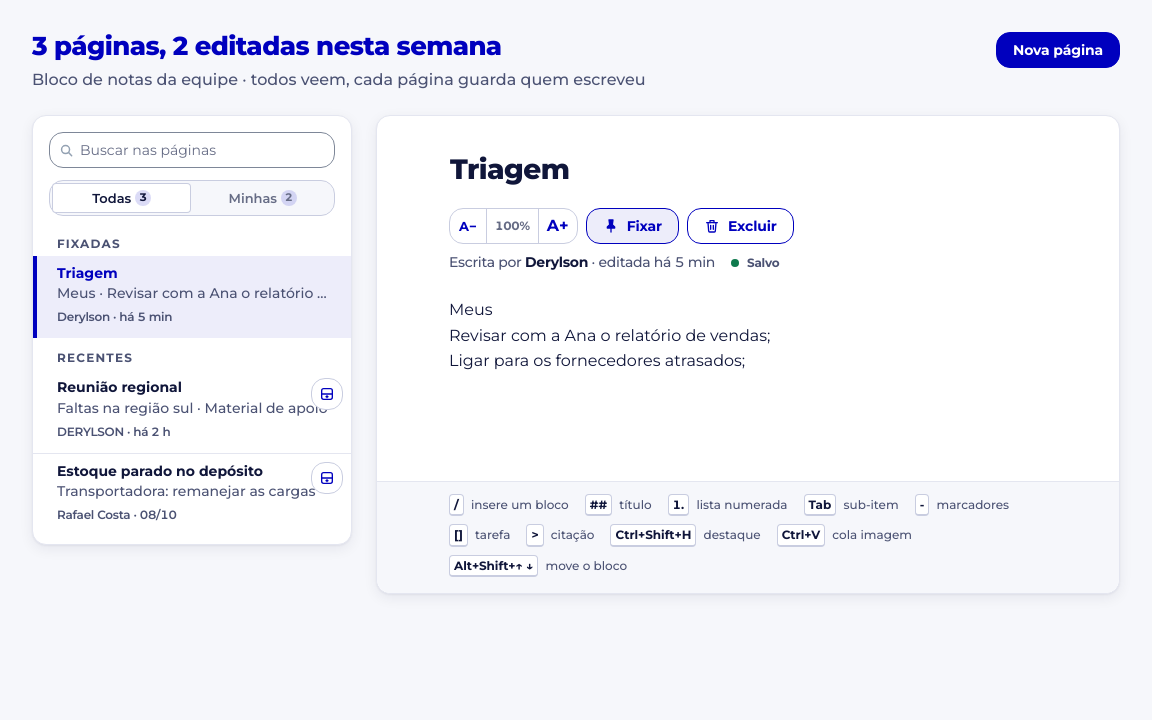
Test case: a busca casa título e texto sem acento e sem caixa, e o vazio diz o que foi buscado
Type "reuniao" into the search field labelled "Buscar nas páginas" at (192, 150), box [49,132,335,168]
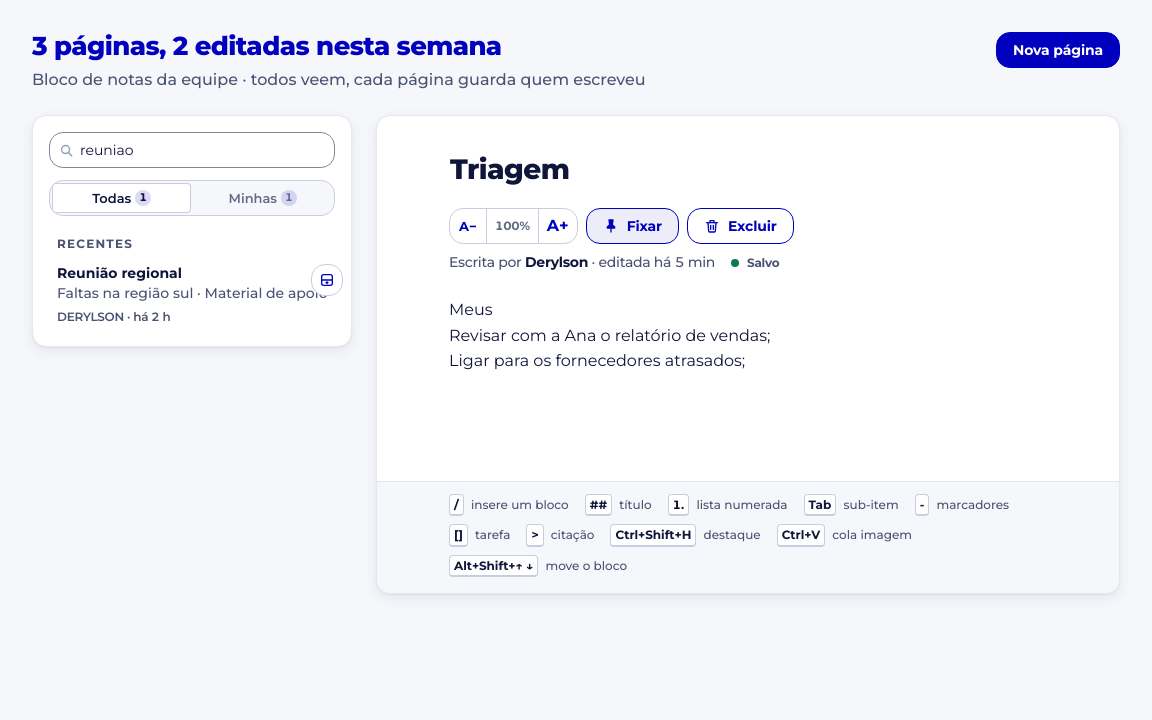
Result: the button "Todas 1" is shown at [52,183,191,213]
Replace the text in the search field named "Buscar nas páginas" with "RELATORIO" at (192, 150), box [49,132,335,168]
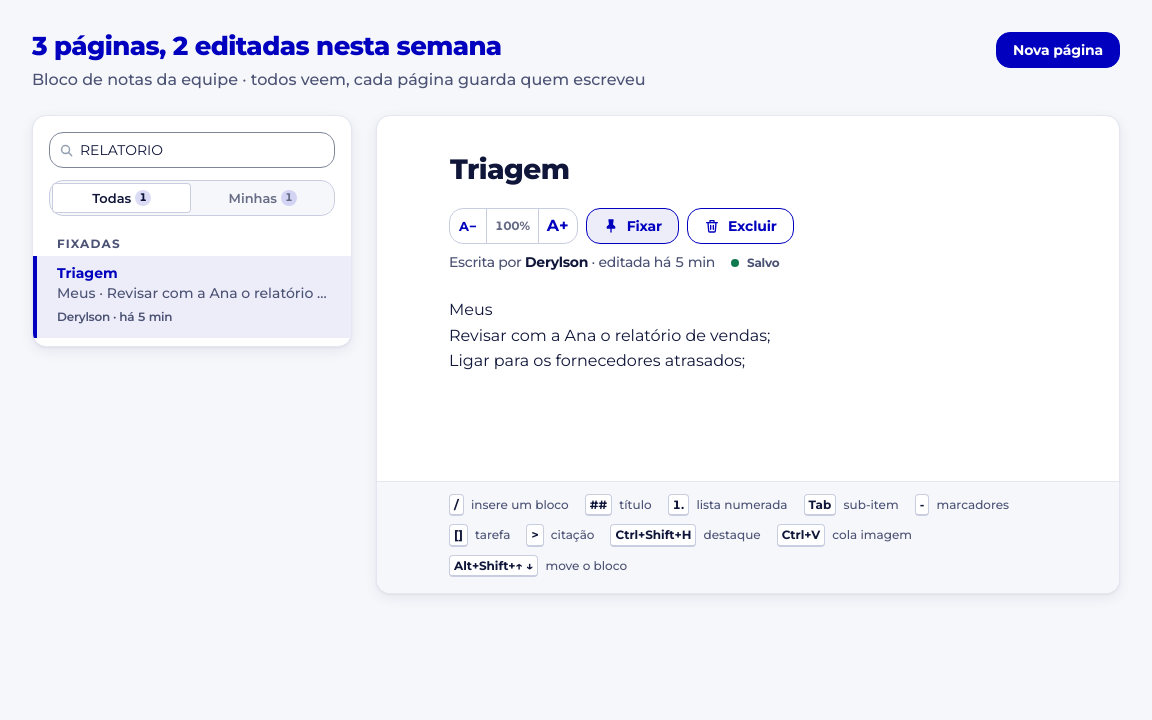
Replace the text in the search field named "Buscar nas páginas" with "plantão domingo" at (192, 150), box [49,132,335,168]
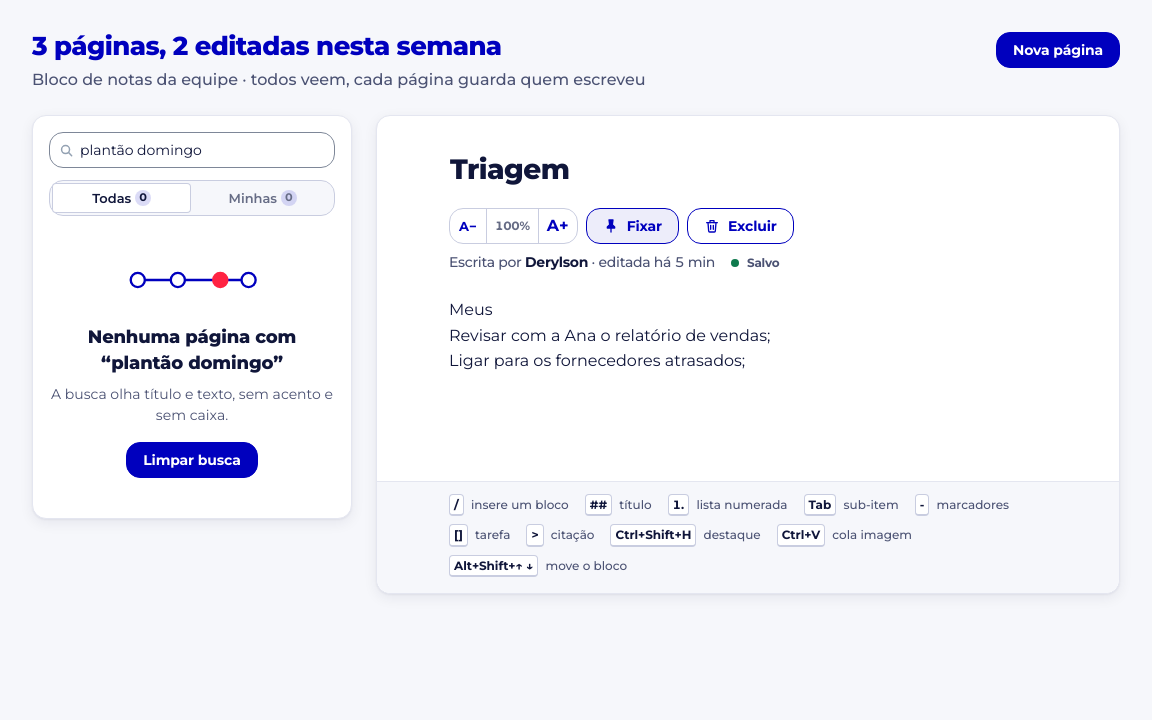
Result: the text "Nenhuma página com “plantão domingo”" is shown at [88,326,296,374]
Click the button "Limpar busca" at (192, 460), box [126,442,258,478]
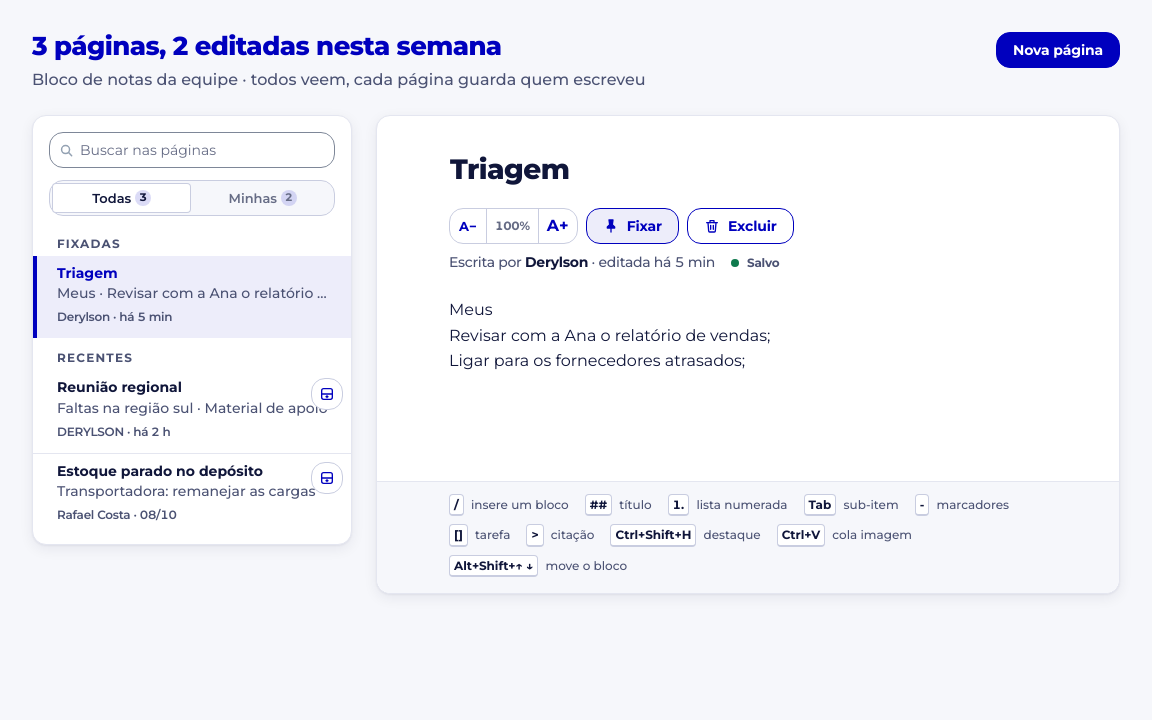
Result: the search field labelled "Buscar nas páginas" is empty at [49,132,335,168]
